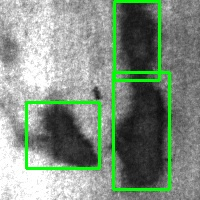patches: (113, 72, 169, 189), (26, 102, 99, 168), (114, 1, 159, 80)
